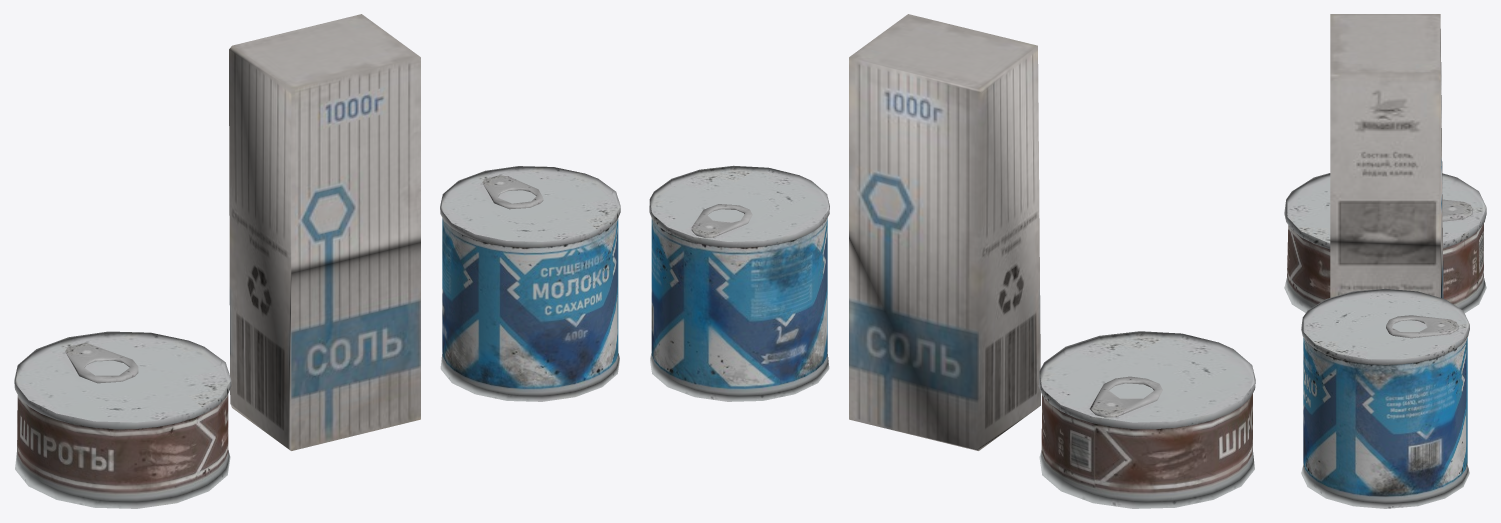
3 renders of one model, left to right at view 1: azimuth 30°, elevation 25°; view 2: azimuth 150°, elevation 25°; view 3: azimuth 270°, elevation 25°, orthographic. The views are drawn at different scales.
Visible parts, largest first — view 1: russian_food_cans_01_salt_box, russian_food_cans_01_can_cond, russian_food_cans_01_can_fish; view 2: russian_food_cans_01_salt_box, russian_food_cans_01_can_cond, russian_food_cans_01_can_fish; view 3: russian_food_cans_01_can_cond, russian_food_cans_01_salt_box, russian_food_cans_01_can_fish.
Boxes of the visible parts, bbox=[...] form: russian_food_cans_01_salt_box: bbox=[229, 14, 420, 450]; russian_food_cans_01_can_cond: bbox=[440, 166, 620, 401]; russian_food_cans_01_can_fish: bbox=[14, 331, 231, 508]; russian_food_cans_01_salt_box: bbox=[849, 14, 1040, 450]; russian_food_cans_01_can_cond: bbox=[649, 165, 829, 401]; russian_food_cans_01_can_fish: bbox=[1038, 331, 1255, 508]; russian_food_cans_01_can_cond: bbox=[1301, 288, 1469, 508]; russian_food_cans_01_salt_box: bbox=[1330, 14, 1443, 298]; russian_food_cans_01_can_fish: bbox=[1284, 173, 1486, 312].
Size of the model in its own units: 0.1424 by 0.0849 by 0.0462.
Materials: 1 (1 with a texture image).
